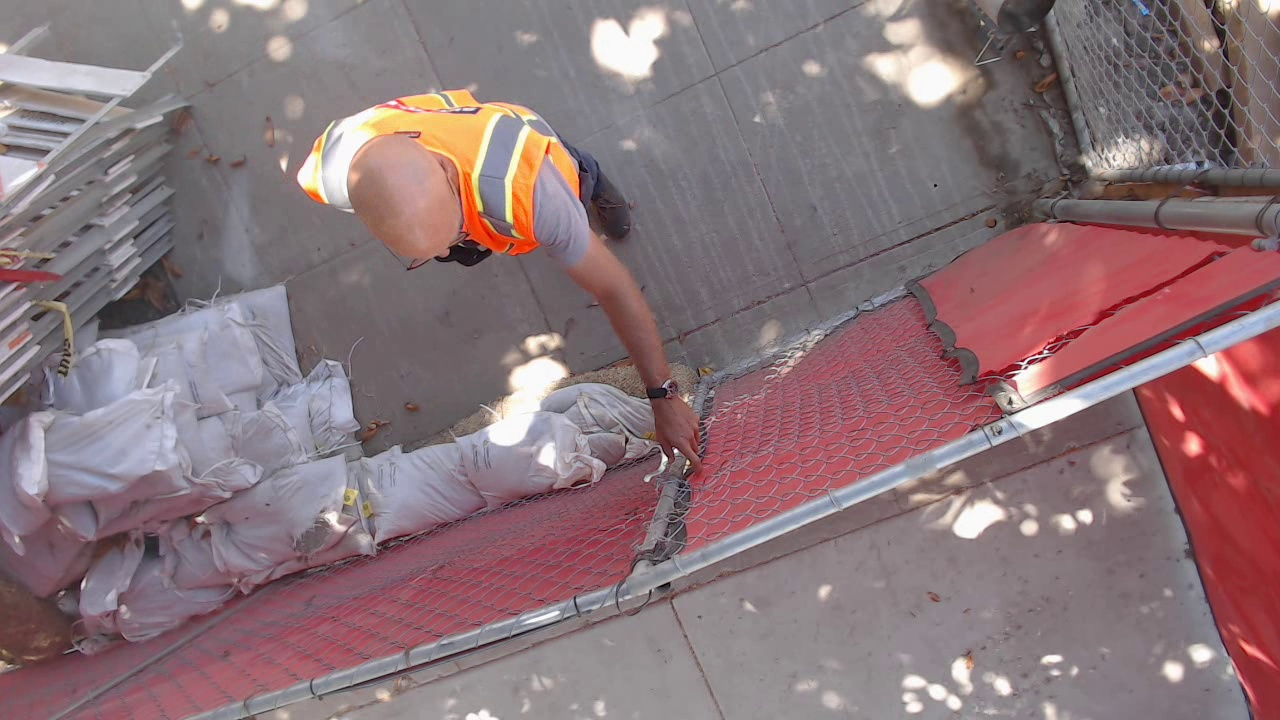person: (295, 91, 687, 437)
safetyvest: (297, 87, 584, 255)
